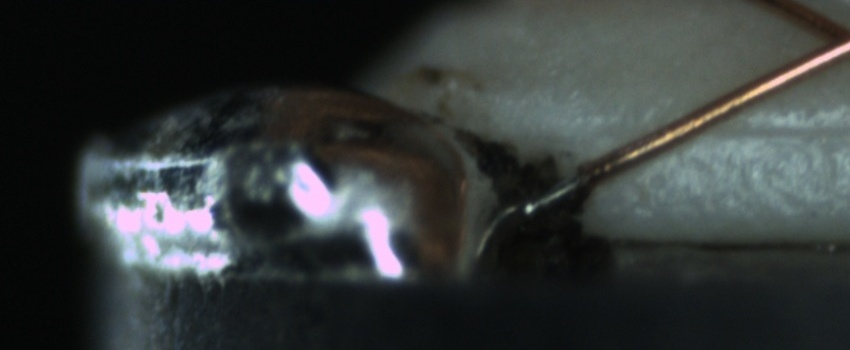CL: (796, 4, 850, 70)
DL: (599, 99, 849, 161)
TS: (498, 178, 586, 226)
TTCW: (516, 132, 659, 222)
